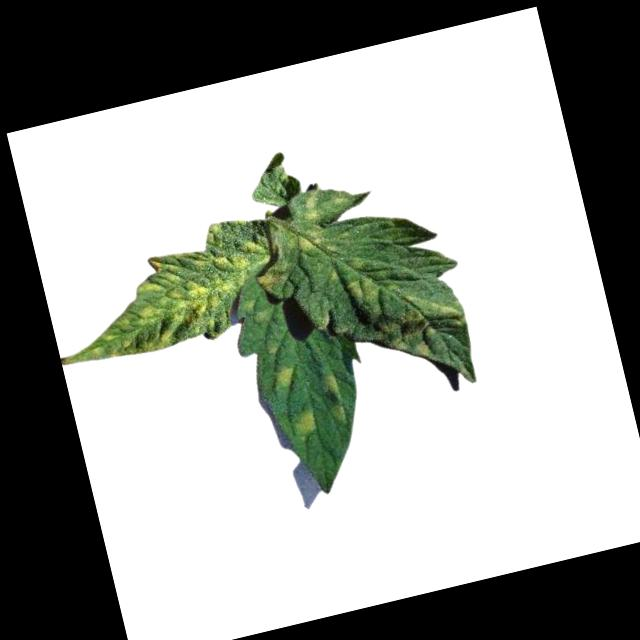Leaf_Mold: (48, 211, 286, 369), (363, 283, 471, 369), (282, 183, 333, 254), (340, 254, 380, 308), (317, 368, 351, 428), (272, 363, 302, 397), (292, 408, 317, 438)
